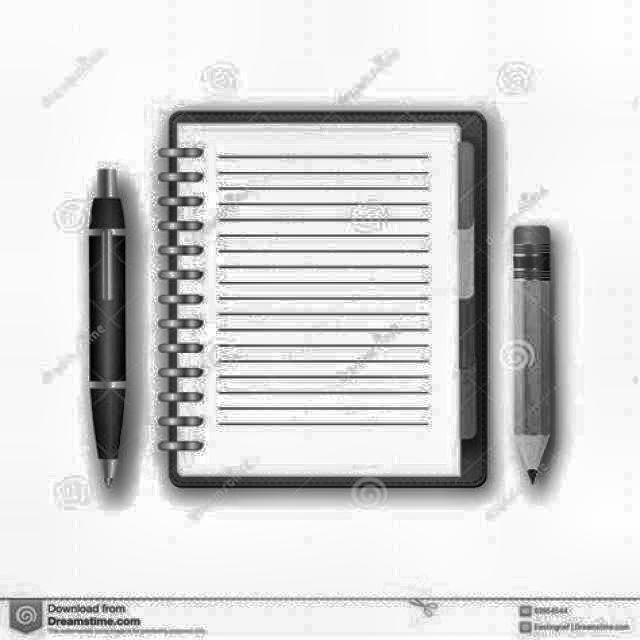Notebook: (142, 81, 503, 500)
Pen: (72, 168, 148, 490)
